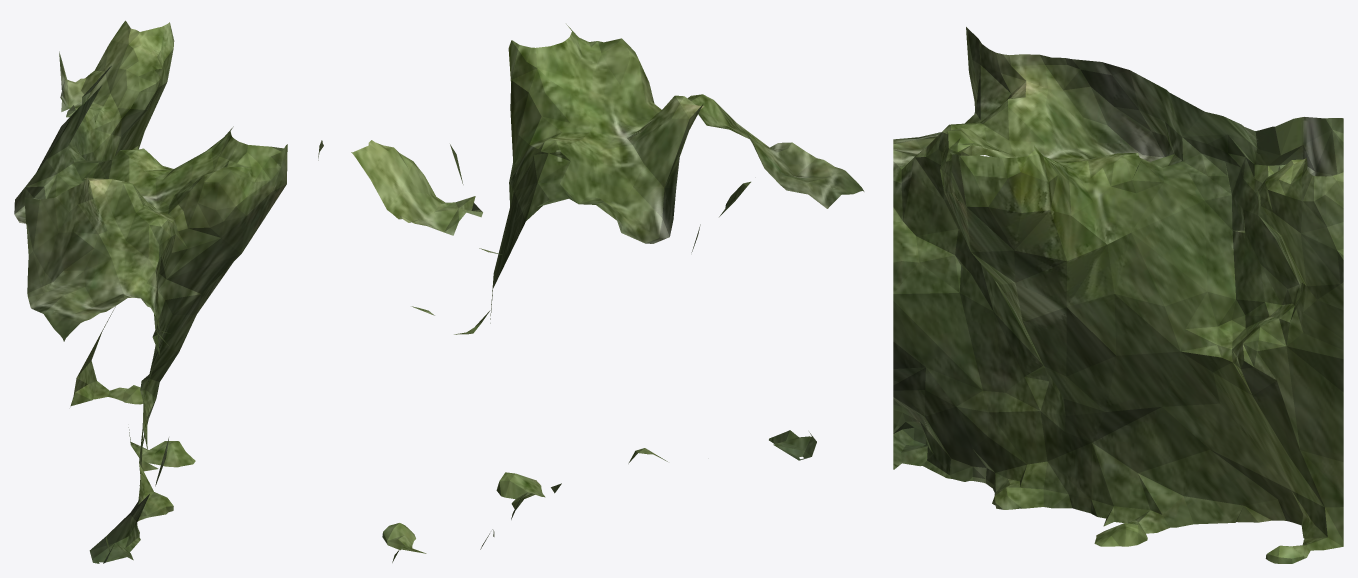
The picture shows the model from 3 angles, left to right: view 1: azimuth 30°, elevation 25°; view 2: azimuth 150°, elevation 25°; view 3: azimuth 270°, elevation 25°; orthographic projection. The views are drawn at different scales.
Size of the model in its own units: 2.55 by 2.95 by 2.95.
4 materials, 4 textured.
